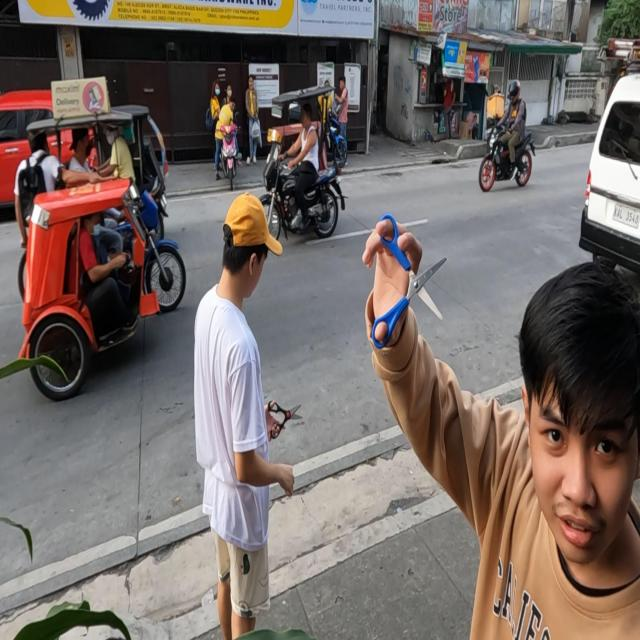scissor: (371, 213, 447, 349), (268, 399, 303, 439)
